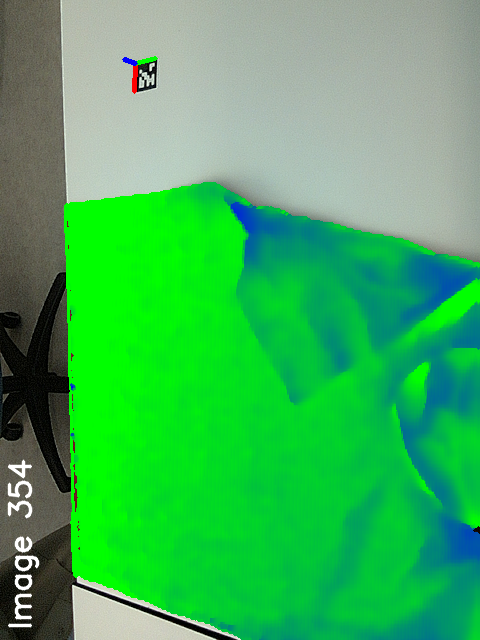V: (274, 361, 323, 416)
